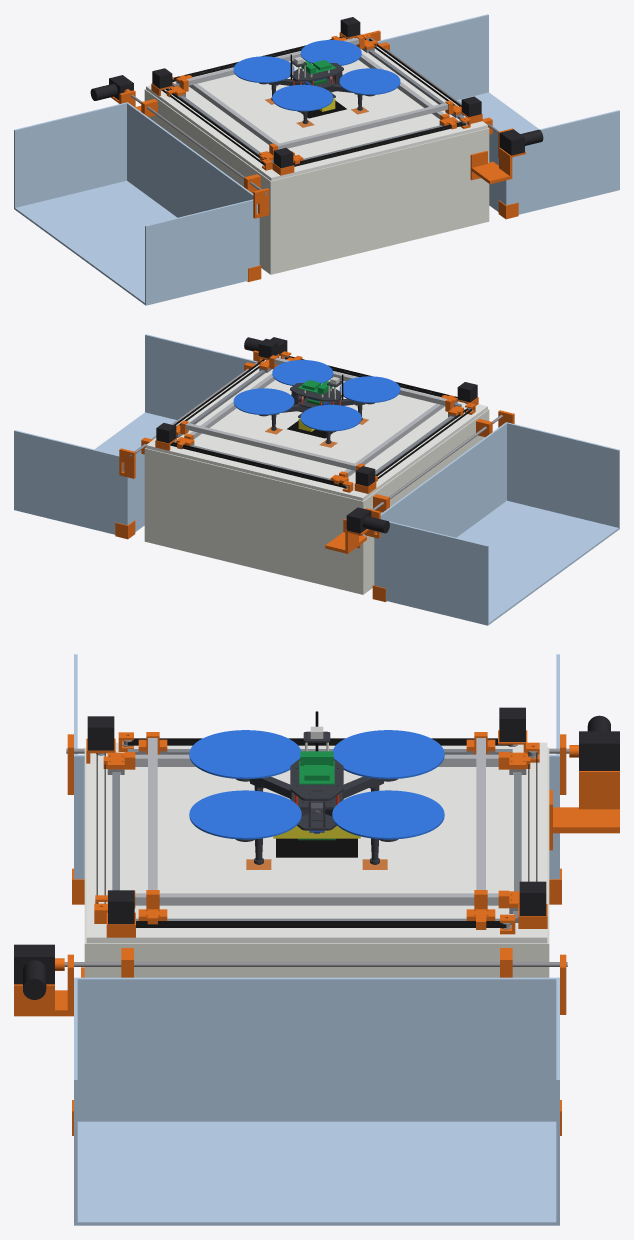
File: dock_open_with_drone.glb
The picture shows the model from 3 angles, top to bottom: view 1: azimuth 30°, elevation 25°; view 2: azimuth 150°, elevation 25°; view 3: azimuth 270°, elevation 25°; orthographic projection. The views are drawn at different scales.
Visible parts, largest first — view 1: dockCOVER_L, dock_panels, dockCOVER_R, dock_deck, REF_prop_3, REF_prop_4, dock_bar_y-1, REF_prop_2, REF_prop_1, dock_motor_bracket_R, dockREF_cover_motor_R, dock_bar_x-1 (+10 smaller); view 2: dockCOVER_L, dock_panels, dockCOVER_R, dock_deck, dock_bar_y+1, REF_prop_2, REF_prop_1, REF_prop_3, REF_prop_4, dock_bar_x-1, dockREF_cover_motor_L, dock_motor_bracket_L (+8 smaller); view 3: dockCOVER_R, dock_deck, dock_panels, REF_prop_1, REF_prop_4, dock_bar_x+1, REF_prop_2, REF_prop_3, dock_motor_bracket_L, dockCOVER_L, dock_shaft_R, dockREF_cover_motor_R (+17 smaller).
Boxes of the visible parts, x1,y1,x2,y2 form: dockCOVER_L: (14, 102, 259, 305); dock_panels: (144, 89, 489, 274); dockCOVER_R: (377, 14, 619, 214); dock_deck: (146, 33, 487, 180); REF_prop_3: (272, 84, 333, 111); REF_prop_4: (339, 68, 400, 94); dock_bar_y-1: (276, 103, 448, 149); REF_prop_2: (233, 56, 294, 82); REF_prop_1: (300, 40, 361, 65); dock_motor_bracket_R: (470, 147, 525, 183); dockREF_cover_motor_R: (500, 129, 543, 155); dock_bar_x-1: (189, 83, 278, 144); dockCOVER_L: (374, 422, 619, 625); dock_panels: (144, 409, 489, 594); dockCOVER_R: (14, 334, 256, 534); dock_deck: (146, 355, 487, 500); dock_bar_y+1: (185, 423, 357, 470); REF_prop_2: (300, 404, 361, 431); REF_prop_1: (233, 388, 294, 414); REF_prop_3: (339, 376, 400, 402); REF_prop_4: (272, 360, 333, 385); dock_bar_x-1: (344, 403, 444, 476); dockREF_cover_motor_L: (346, 507, 389, 533); dock_motor_bracket_L: (325, 519, 369, 553); dockCOVER_R: (74, 977, 559, 1225); dock_deck: (86, 742, 547, 943); dock_panels: (84, 747, 549, 977); REF_prop_1: (332, 790, 444, 839); REF_prop_4: (189, 790, 301, 839); dock_bar_x+1: (135, 893, 498, 905); REF_prop_2: (333, 730, 444, 779); REF_prop_3: (189, 730, 300, 779); dock_motor_bracket_L: (549, 771, 619, 850); dockCOVER_L: (74, 654, 559, 879); dock_shaft_R: (64, 962, 567, 966); dockREF_cover_motor_R: (14, 944, 54, 999).
Size of the model in its own units: 1596 by 494 by 960.
